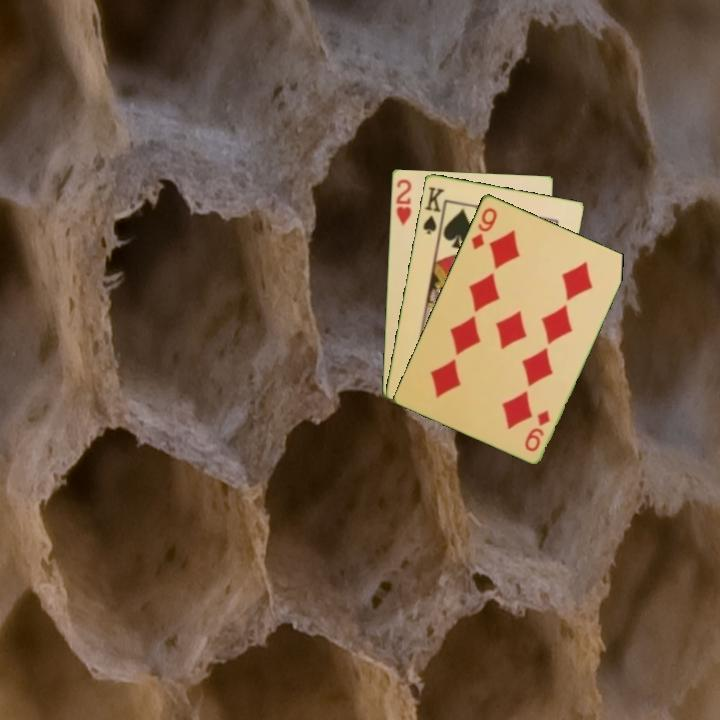2h: (392, 175, 414, 228)
9d: (467, 203, 500, 252), (521, 406, 553, 454)
Ks: (419, 183, 448, 238)
